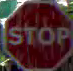Stop: (5, 0, 72, 70)
